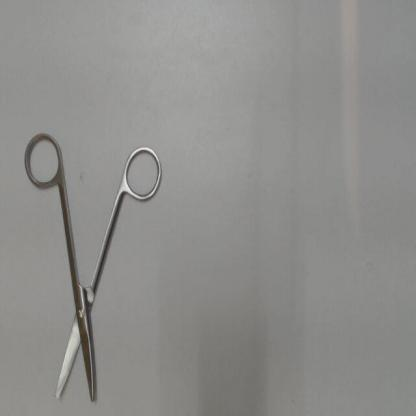Curved Mayo Scissors: (20, 126, 166, 405)
